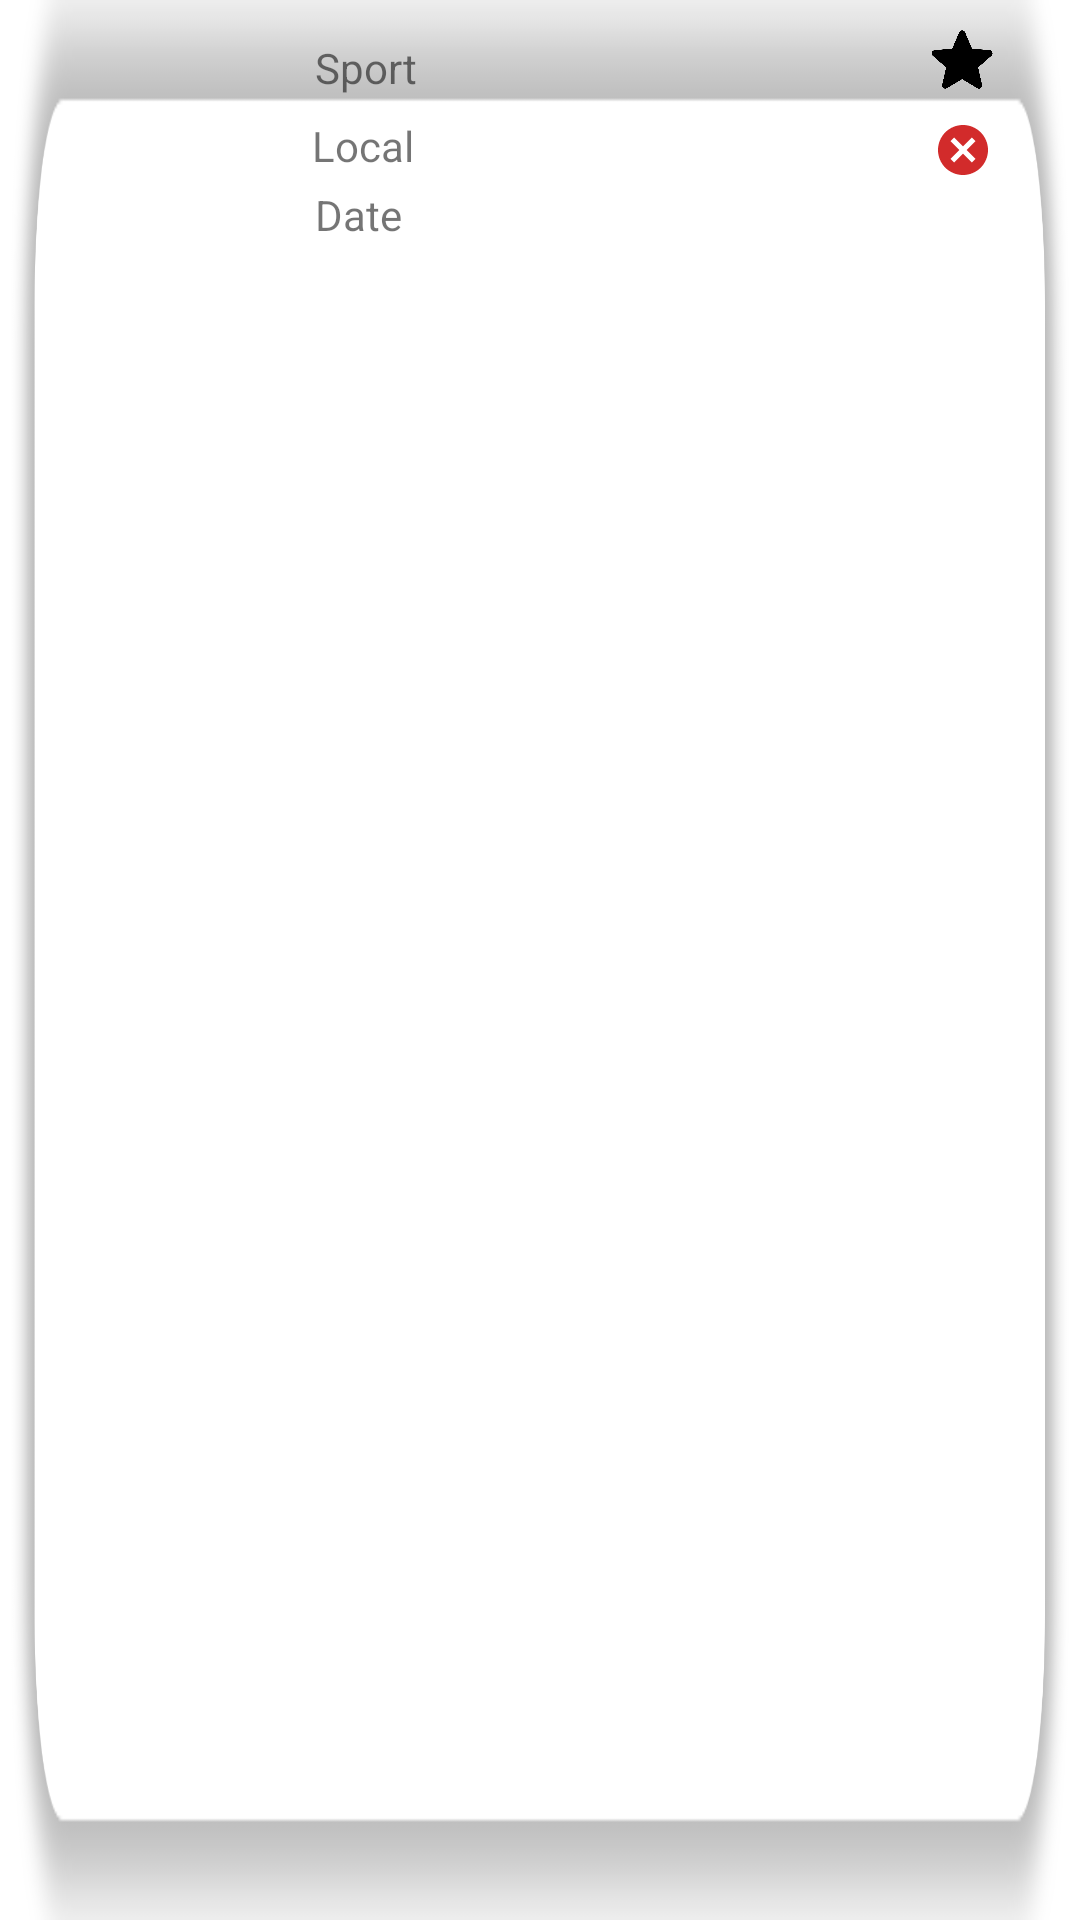

Screen size 1080 x 1920. Icon name, then its center in pixels as [x,y]:
cancel: [963,150]
star: [963,59]
